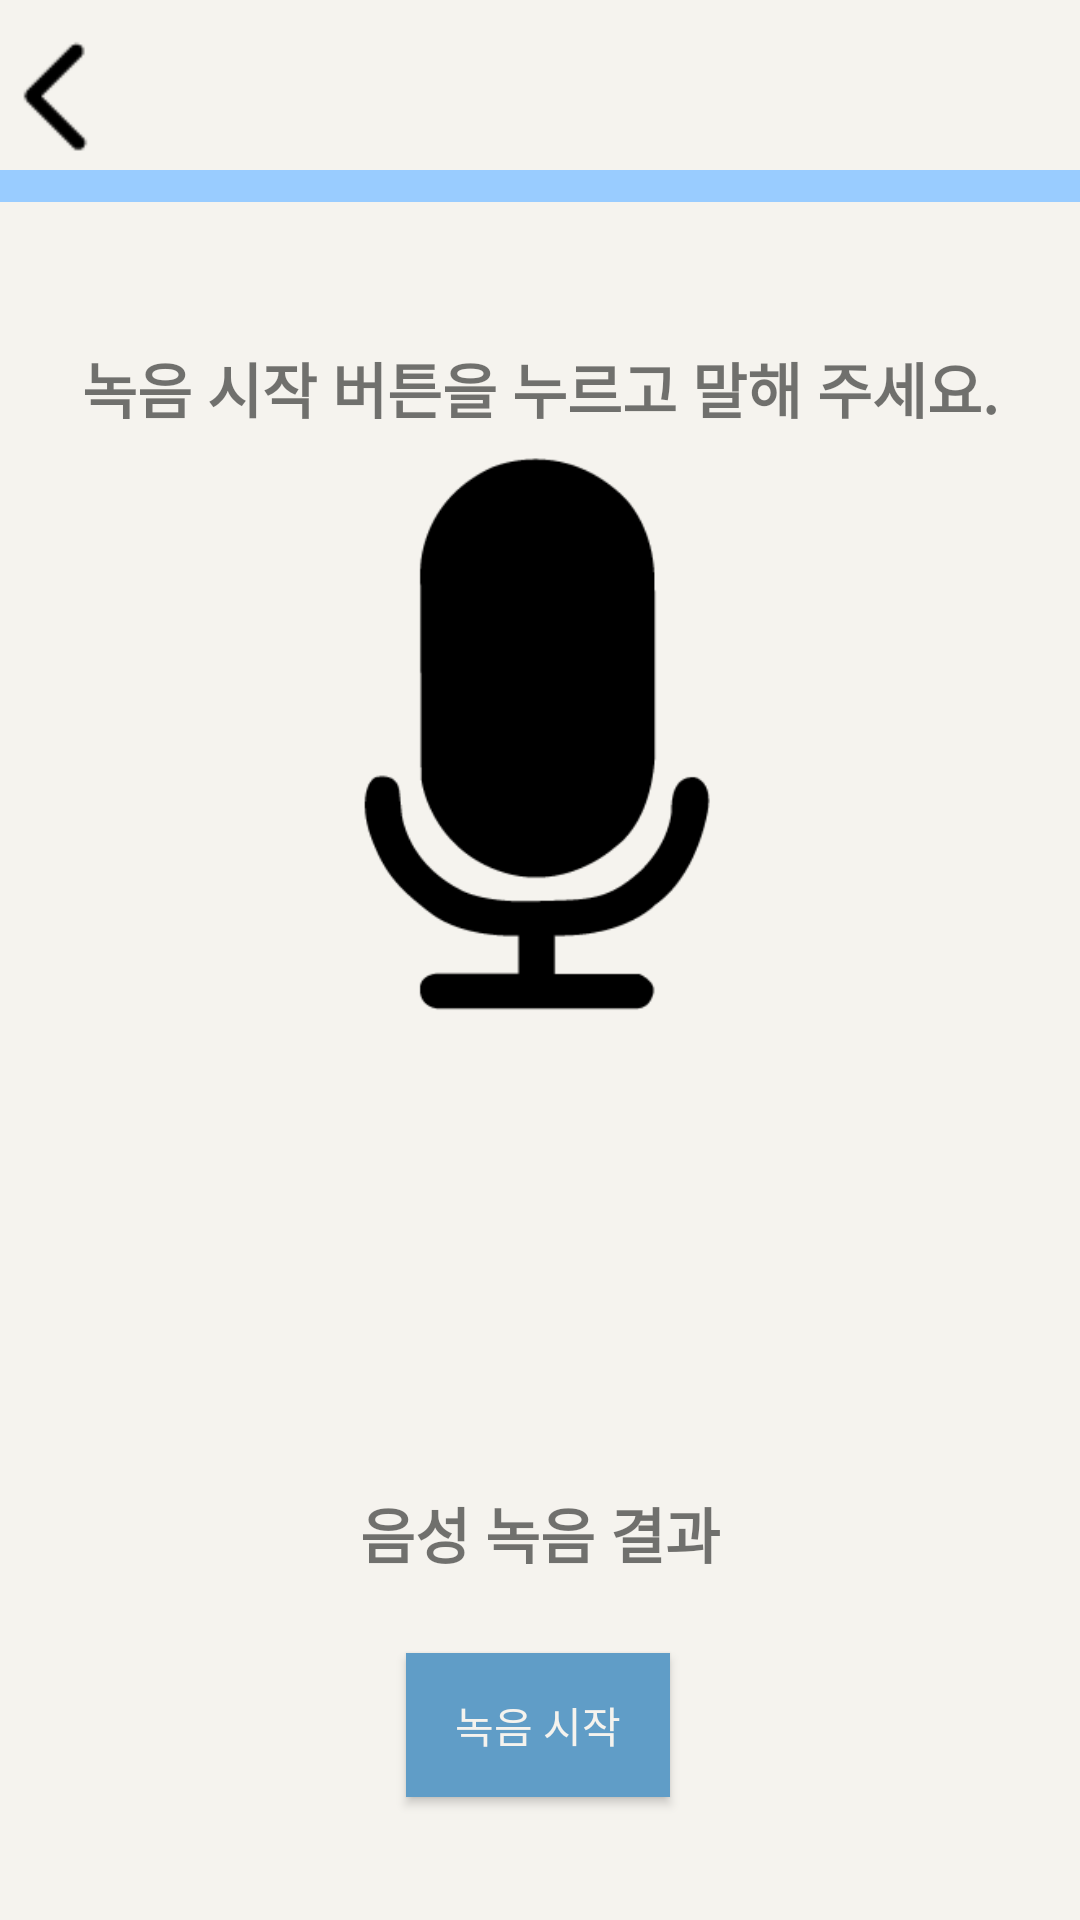

Named icons in this screenshot (1080px x 1920px) and their bounding boxes, {"left": x1, "top": y1, "right": x2, "bottom": y2}:
back: {"left": 23, "top": 42, "right": 87, "bottom": 151}
